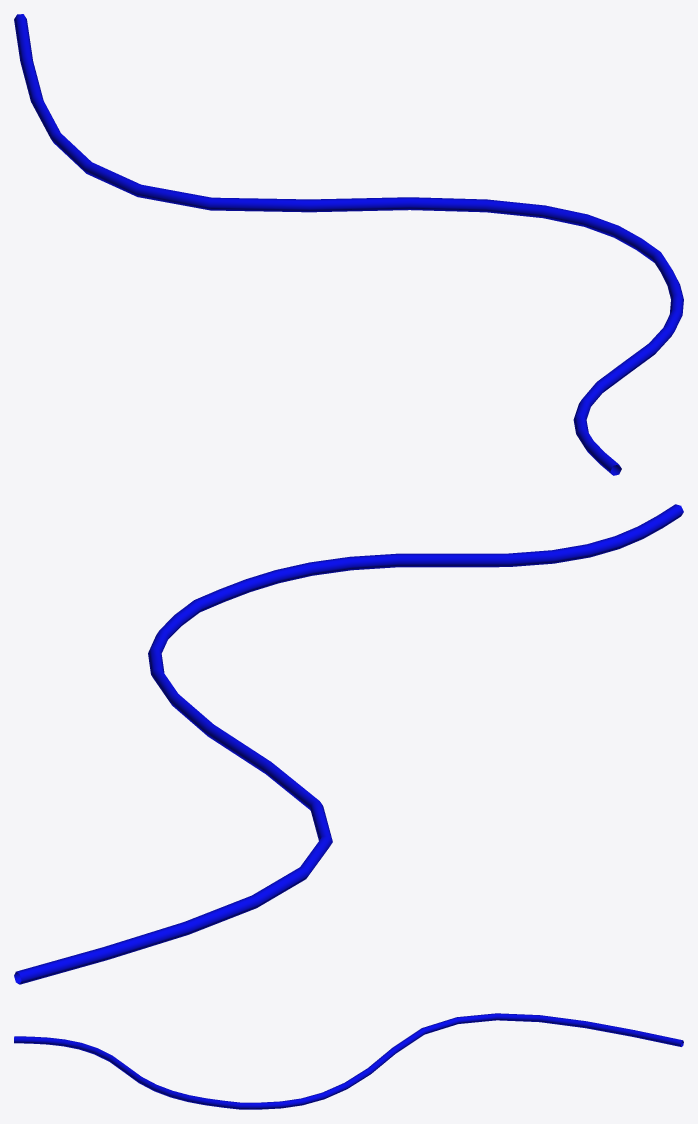
3 renders of one model, top to bottom at view 1: azimuth 30°, elevation 25°; view 2: azimuth 150°, elevation 25°; view 3: azimuth 270°, elevation 25°, orthographic. The views are drawn at different scales.
Parts seen in each view (by area): view 1: FC_4; view 2: FC_4; view 3: FC_4.
Boxes of the visible parts, x1,y1,x2,y2 form: FC_4: (14, 14, 683, 475); FC_4: (14, 504, 683, 984); FC_4: (14, 1013, 683, 1109).
Bounding box in the file's own units: 52.43 × 1.47 × 161.
